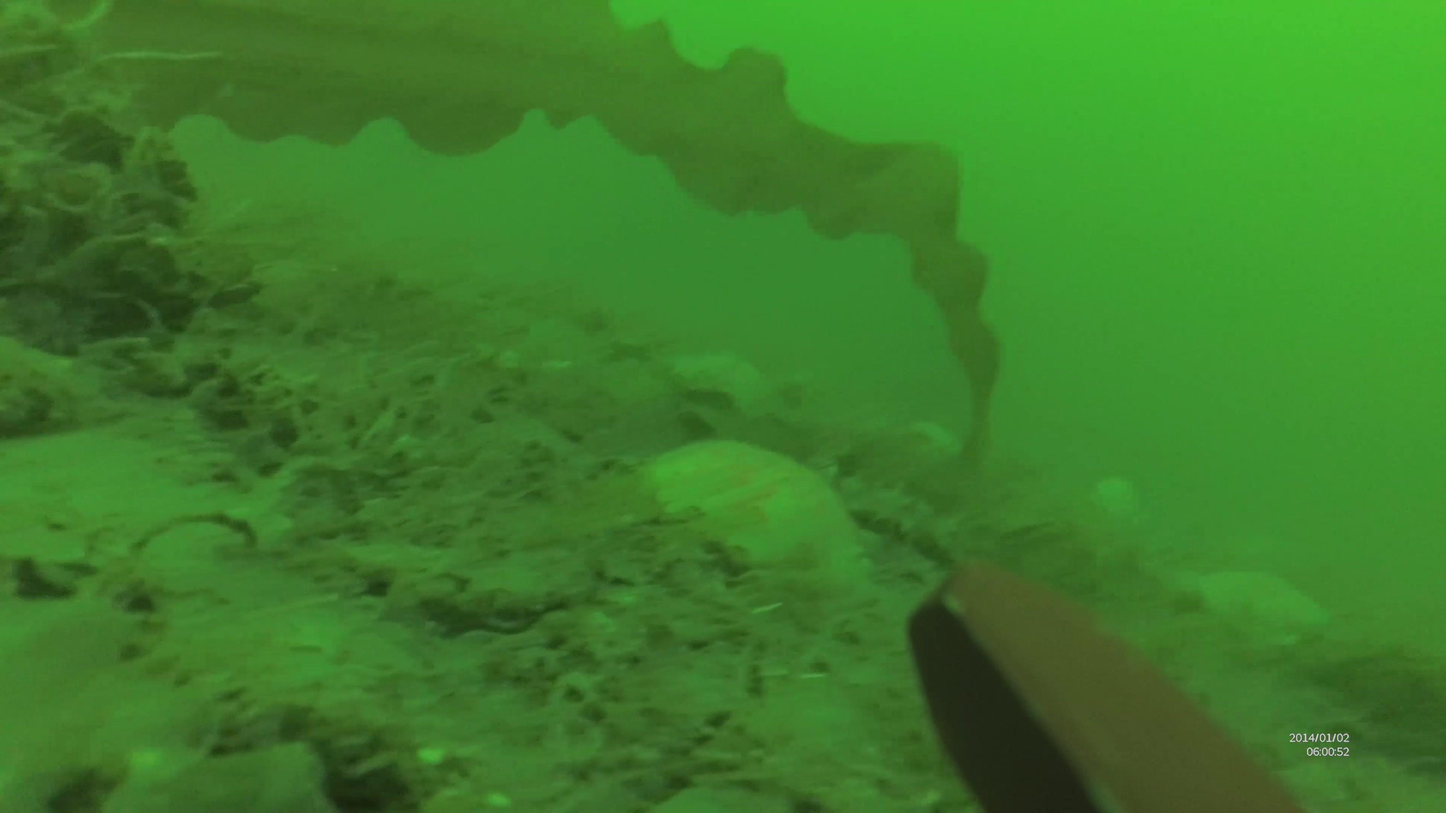holothurian: (606, 439, 881, 588), (1175, 559, 1333, 649), (667, 346, 786, 420)
